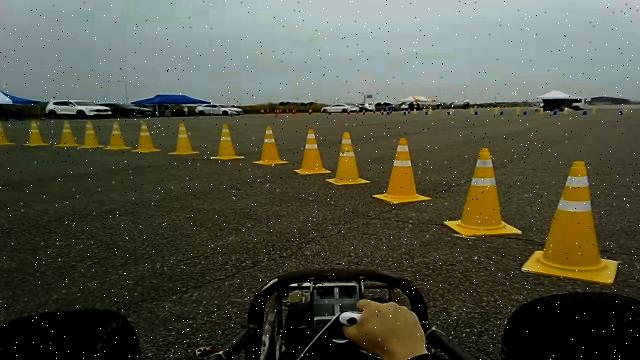yellow cone: (520, 160, 619, 285), (443, 147, 522, 236), (371, 137, 432, 204), (324, 131, 372, 185), (293, 128, 331, 175), (252, 124, 289, 166), (209, 123, 244, 160), (168, 122, 200, 155), (130, 121, 160, 153), (103, 121, 131, 150), (78, 119, 104, 149), (53, 119, 80, 147), (22, 120, 50, 146), (0, 120, 15, 146)
